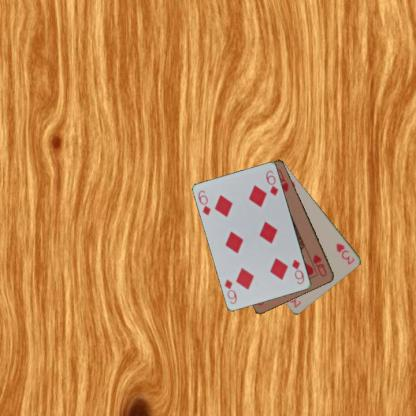3h: (334, 240, 356, 266)
6d: (289, 257, 306, 286), (196, 188, 212, 216)
Qh: (310, 252, 328, 278)
